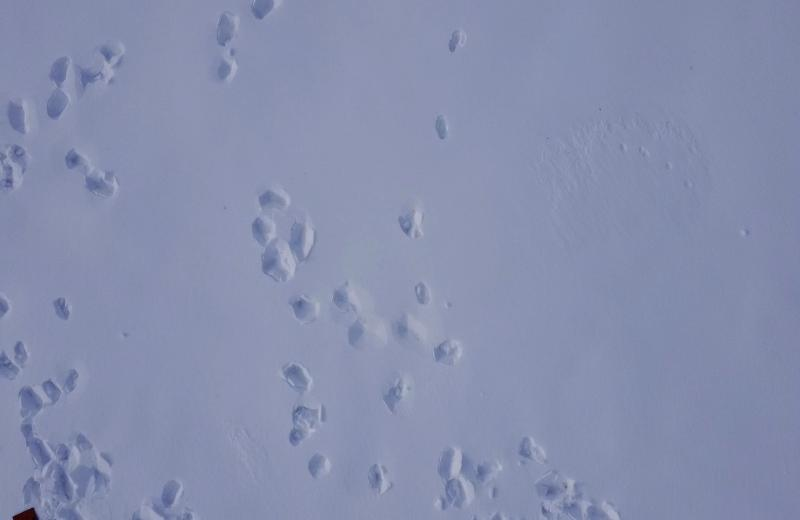Rectangle: (8, 503, 41, 520)
